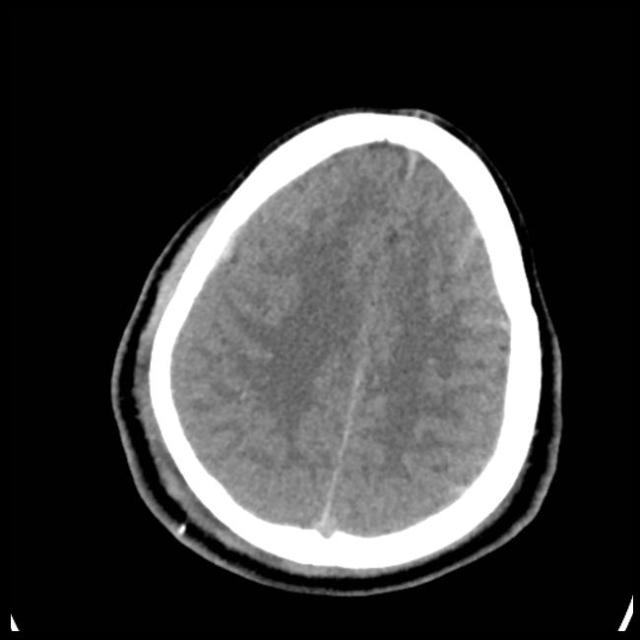lesion: (108, 103, 566, 596)
